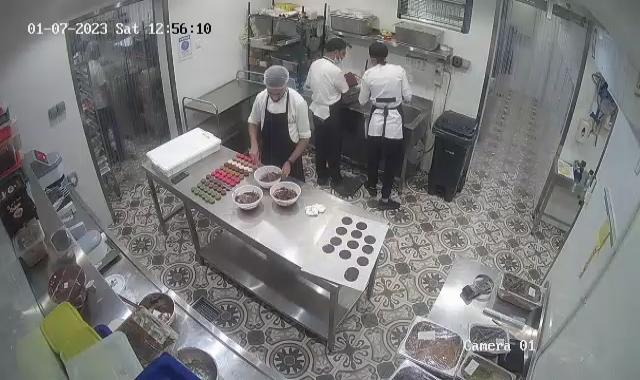hairnet: (262, 65, 290, 92)
no_hairnet: (325, 37, 348, 57), (369, 43, 389, 65)
